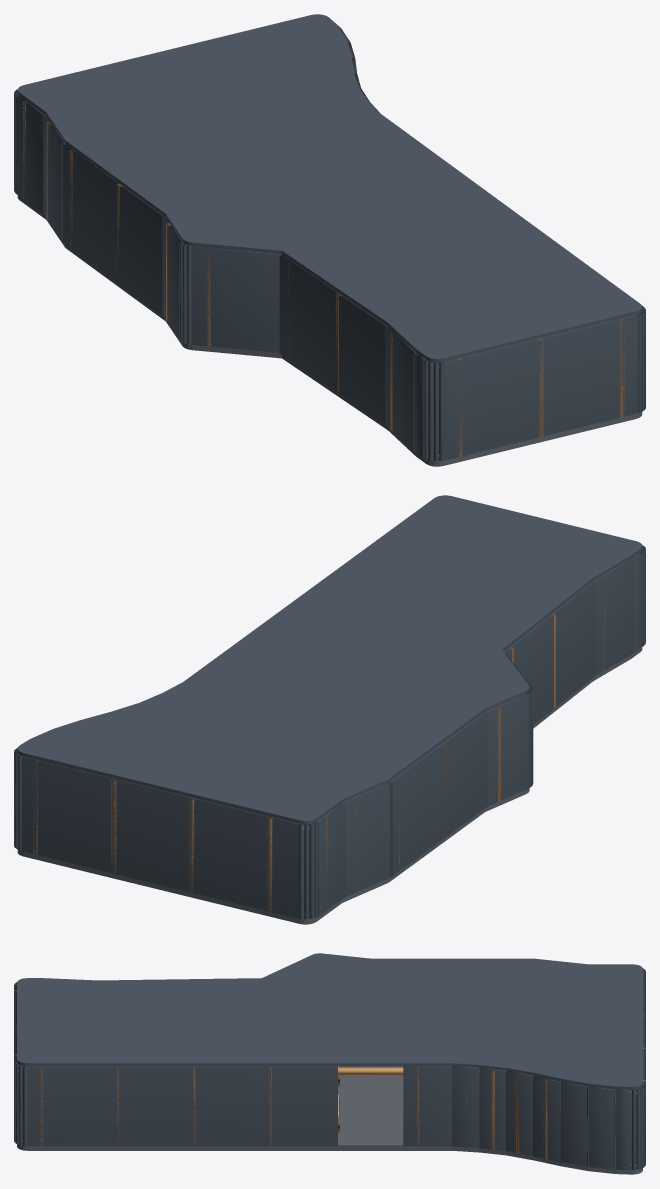
File: Medbay.glb
3 renders of one model, top to bottom at view 1: azimuth 30°, elevation 25°; view 2: azimuth 150°, elevation 25°; view 3: azimuth 270°, elevation 25°, orthographic. The views are drawn at different scales.
Parts seen in each view (by area): view 1: Ceiling_panel, Wall (×9), Medbay_floor; view 2: Ceiling_panel, Wall (×9), Medbay_floor; view 3: Ceiling_panel, Wall (×14), Medbay_floor, Door_header, Rib.
Part boxes in pixels (<box>): Ceiling_panel: <box>17,14,642,362</box>; Wall (×9): <box>16,96,637,460</box>; Medbay_floor: <box>17,195,642,466</box>; Ceiling_panel: <box>17,495,642,824</box>; Wall (×9): <box>21,552,643,919</box>; Medbay_floor: <box>17,647,642,924</box>; Ceiling_panel: <box>17,953,642,1089</box>; Wall (×14): <box>18,971,645,1170</box>; Medbay_floor: <box>17,1066,642,1174</box>; Door_header: <box>338,1067,403,1074</box>; Rib: <box>490,1070,494,1149</box>.
Size of the model in its own units: 11.84 by 3.55 by 23.22.
